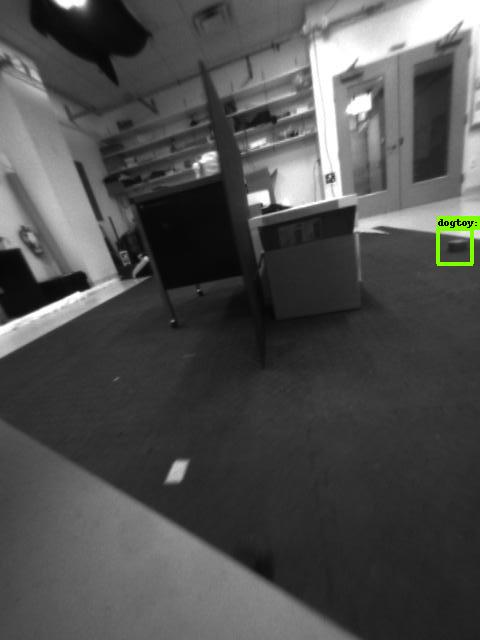dogtoy: (435, 228, 469, 263)
